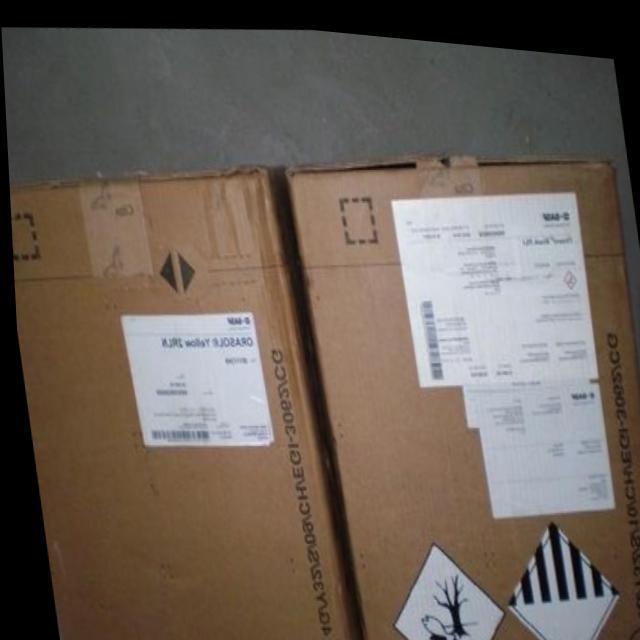box: (282, 143, 640, 640), (7, 159, 355, 640)
